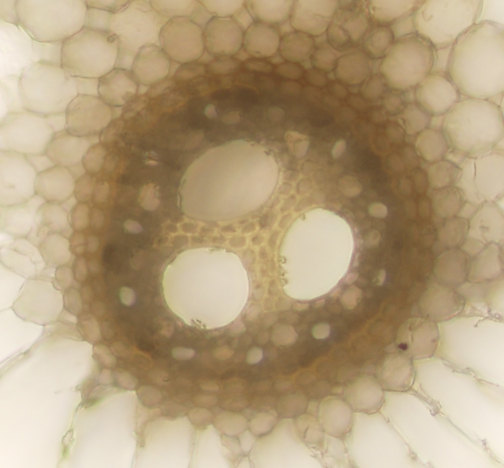lm: (177, 138, 281, 223), (163, 247, 249, 330), (279, 207, 353, 300)
